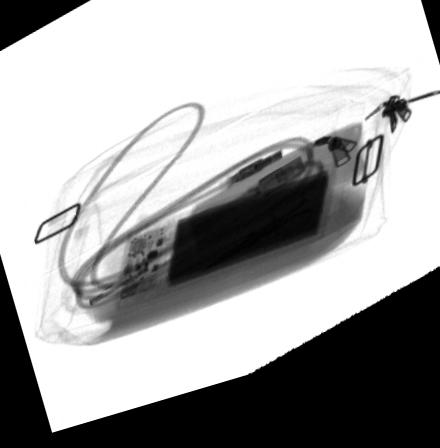Powerbank: (113, 182, 334, 313)
Scissors: (200, 205, 317, 288)
